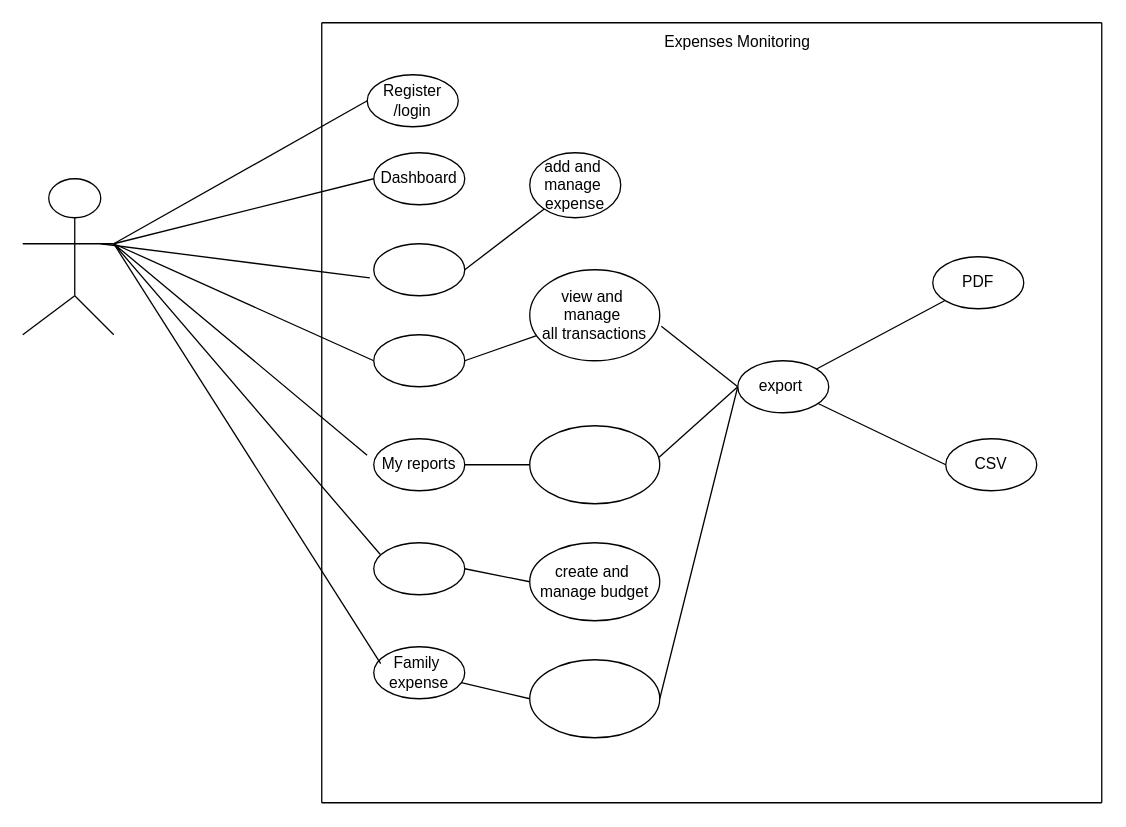
The diagram is 1126 pixels wide and 827 high, and some of its shapes have lost their labels. The shapes that lost their labels are listed below. From the top down, each one's centre as x and y in pixels, then its label:
At [418,269]: "Add expense".
At [418,360]: "Transactions".
At [594,464]: "view personnel report summary".
At [418,568]: "Budget Setup".
At [594,698]: "view Family budget and shared report".
